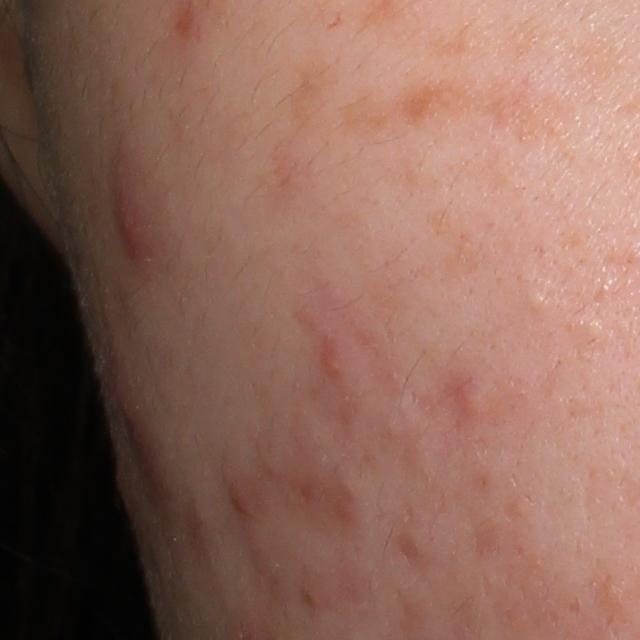comedo: (524, 287, 552, 316)
melasma: (482, 70, 589, 157), (394, 72, 482, 129), (285, 59, 342, 133), (428, 16, 482, 61)
papule: (110, 350, 153, 467), (116, 170, 157, 268), (456, 377, 486, 423), (228, 480, 252, 525), (321, 340, 344, 381)
